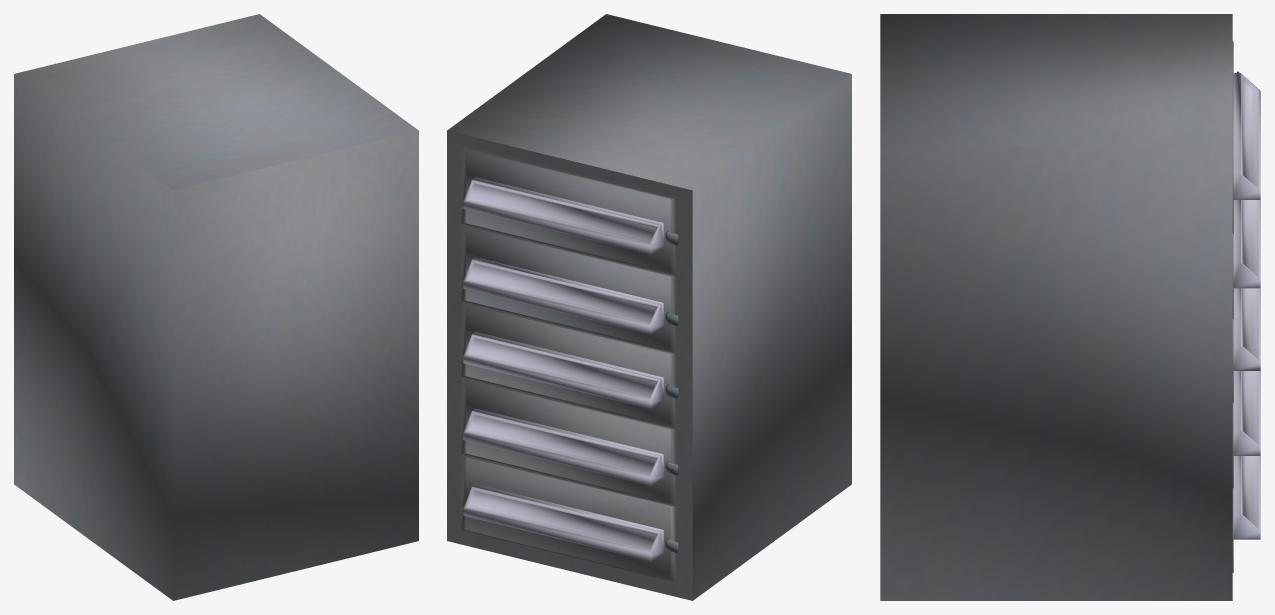
File: desk_cabinet_library.obj
3 views of the same model, side by side, from view 1: azimuth 30°, elevation 25°; view 2: azimuth 150°, elevation 25°; view 3: azimuth 270°, elevation 25° (orthographic). The views are drawn at different scales.
Parts seen in each view (by area): view 1: desk_cabinet_library.obj; view 2: desk_cabinet_library.obj; view 3: desk_cabinet_library.obj.
Part boxes in pixels (x1,y1,x2,y2): desk_cabinet_library.obj: (14,14,418,600); desk_cabinet_library.obj: (447,14,851,600); desk_cabinet_library.obj: (880,14,1260,600).
Bounding box in the file's own units: 10.03 × 16.03 × 12.15.
